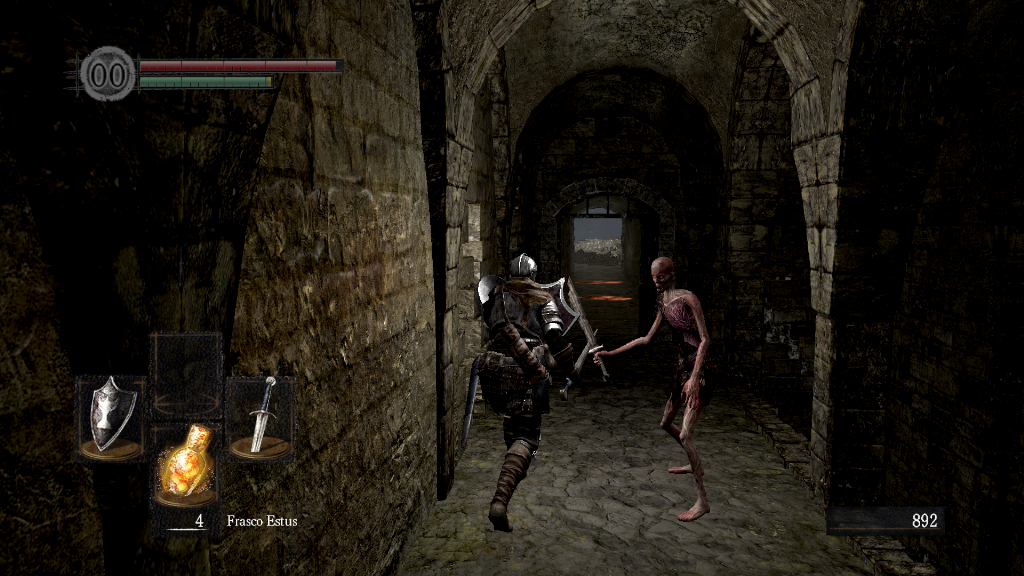health: (138, 58, 343, 71)
hollow: (603, 257, 716, 526)
humanity: (80, 45, 136, 102)
player: (459, 250, 602, 530)
souls: (825, 506, 945, 536)
stamina: (138, 74, 274, 88)
